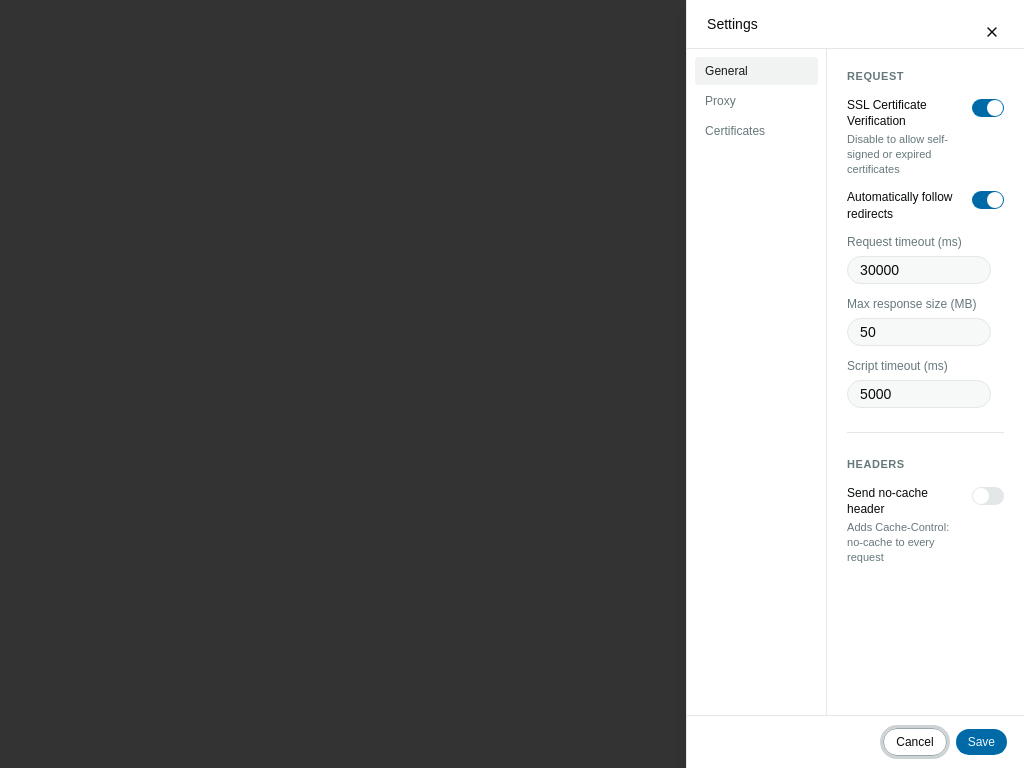
section navigation › shows the Certificates section when Certificates nav item is clicked
Click the button "Certificates" at (757, 131), box [695,117,818,145]
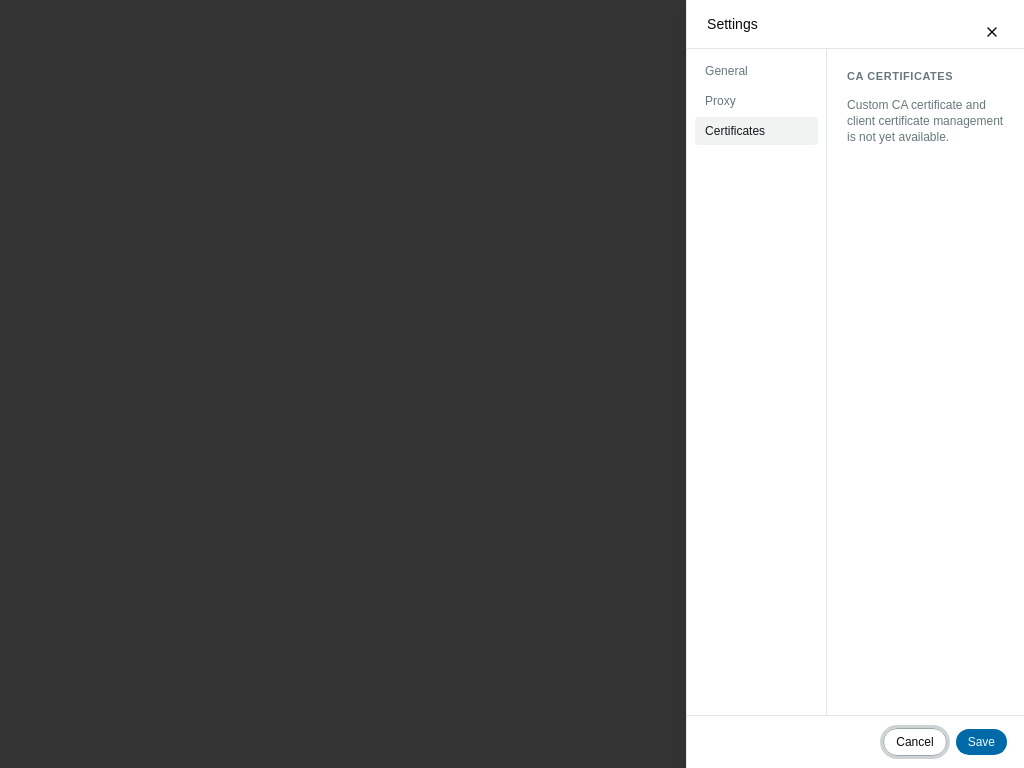
Expected: the text "not yet available" is shown, [847,98,1003,144]
